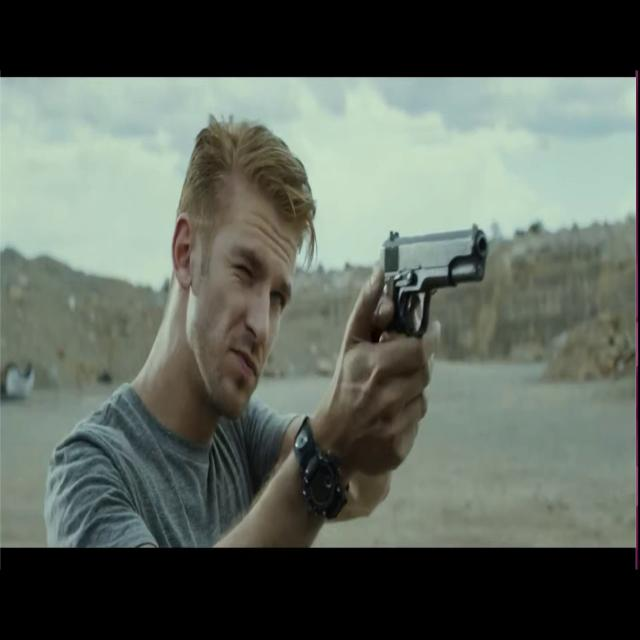weapons: (366, 206, 496, 376)
